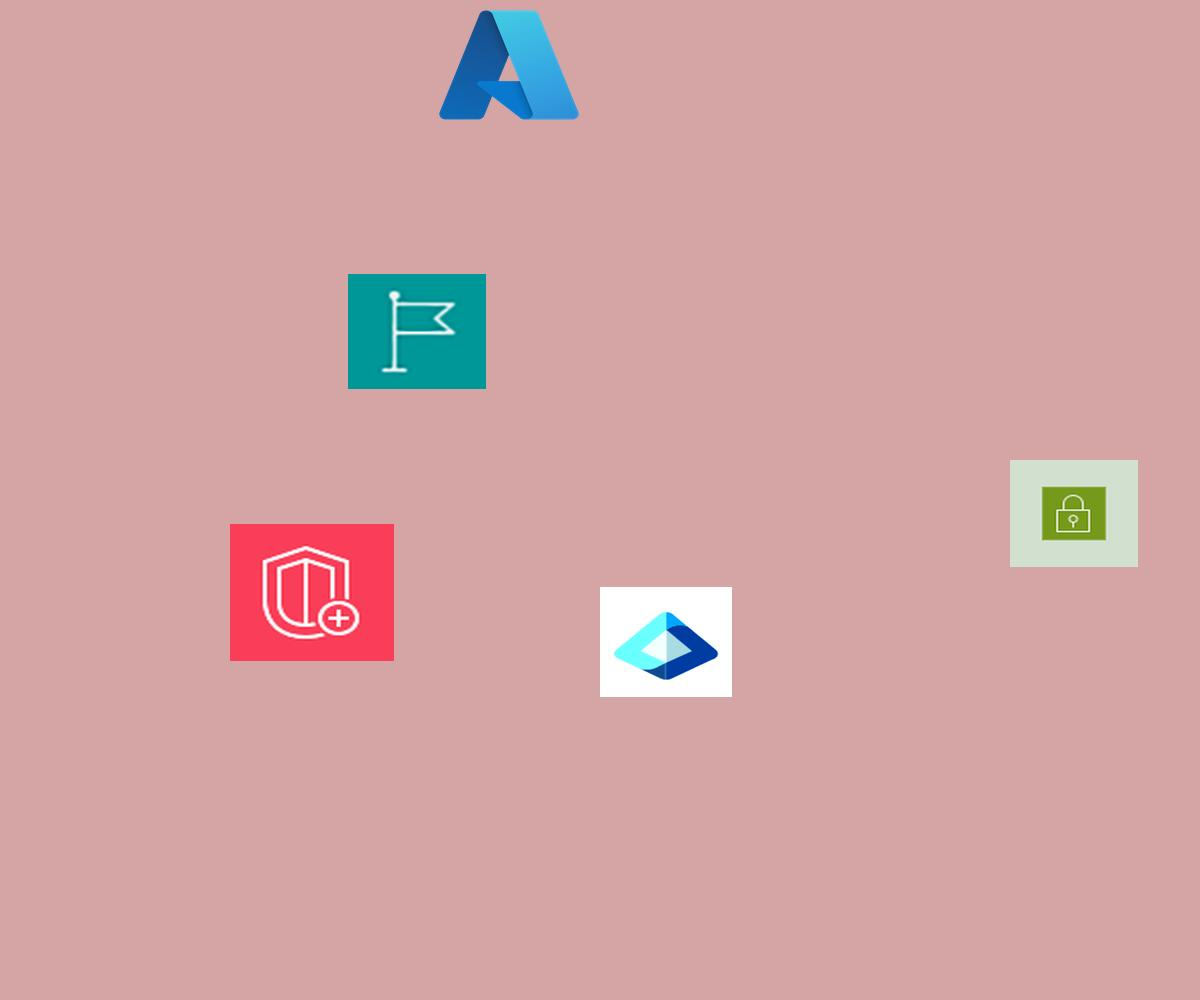AWS-Public-subnet: (1010, 460, 1138, 567)
AWS-Region: (348, 274, 486, 389)
AWS-Shield: (230, 524, 394, 661)
Azure_microsoft_entra: (600, 587, 732, 697)
Azure_services: (433, 2, 585, 128)
